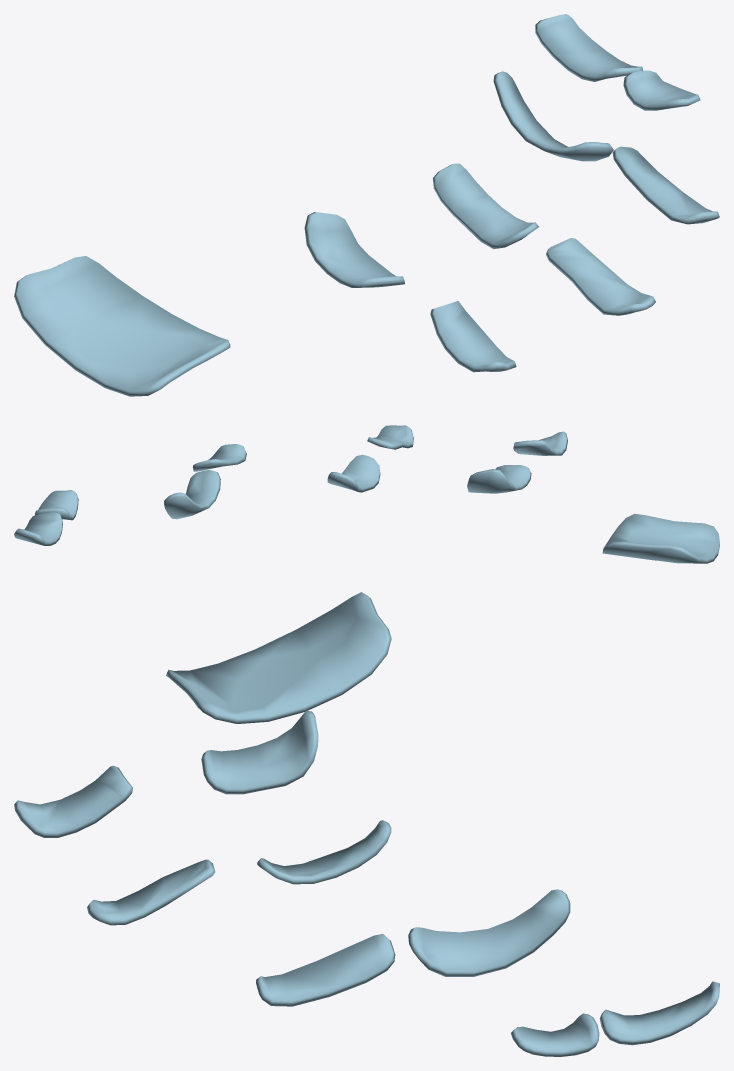
Rendered from articulacoes-plantar-interphalangeal-ligaments-l.glb.
The picture shows the model from 3 angles, top to bottom: view 1: azimuth 30°, elevation 25°; view 2: azimuth 150°, elevation 25°; view 3: azimuth 270°, elevation 25°; orthographic projection. The views are drawn at different scales.
Visible parts, largest first — view 1: Plantar interphalangeal ligaments.l; view 2: Plantar interphalangeal ligaments.l; view 3: Plantar interphalangeal ligaments.l.
Part boxes in pixels (x1,y1,x2,y2): Plantar interphalangeal ligaments.l: [14, 14, 719, 396]; Plantar interphalangeal ligaments.l: [14, 425, 719, 563]; Plantar interphalangeal ligaments.l: [14, 592, 719, 1056].
Size of the model in its own units: 0.073 by 0.008 by 0.0543.
